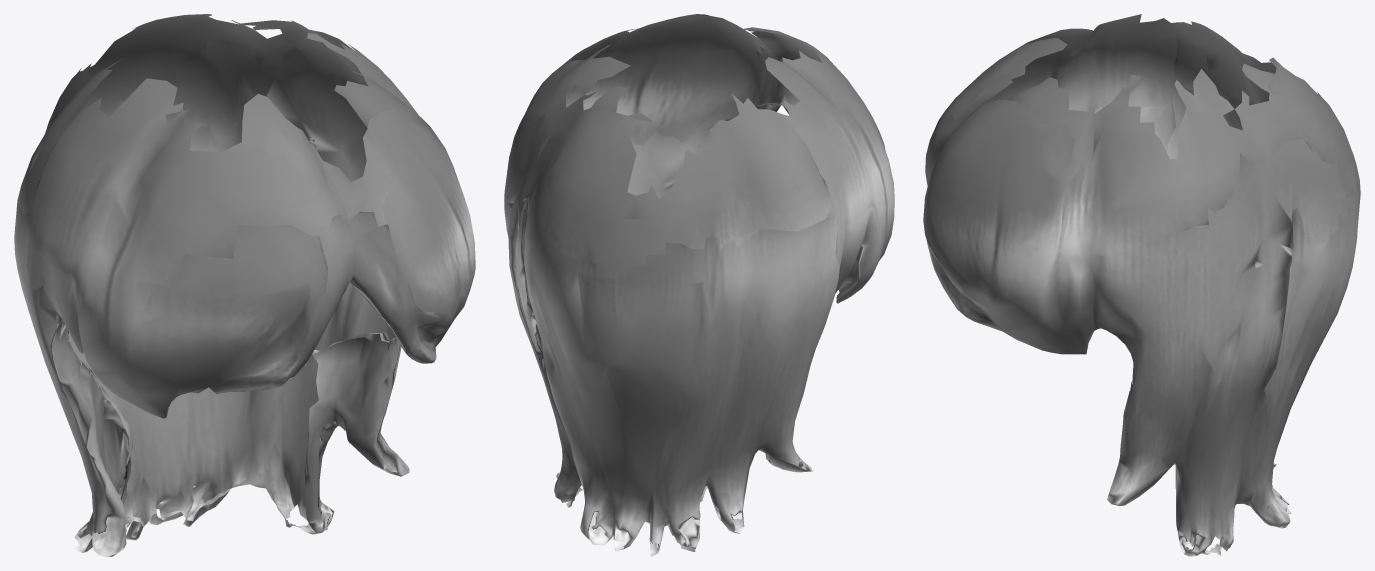
File: layered-shoulder.glb
3 views of the same model, side by side, from view 1: azimuth 30°, elevation 25°; view 2: azimuth 150°, elevation 25°; view 3: azimuth 270°, elevation 25° (orthographic). The views are drawn at different scales.
Parts seen in each view (by area): view 1: layered-shoulder; view 2: layered-shoulder; view 3: layered-shoulder.
Boxes of the visible parts, x1=… form: layered-shoulder: x1=14, y1=14, x2=475, y2=556; layered-shoulder: x1=504, y1=14, x2=894, y2=556; layered-shoulder: x1=923, y1=14, x2=1360, y2=556.
Bounding box in the file's own units: 0.2032 × 0.2746 × 0.2317.
Materials: 1 (1 with a texture image).
